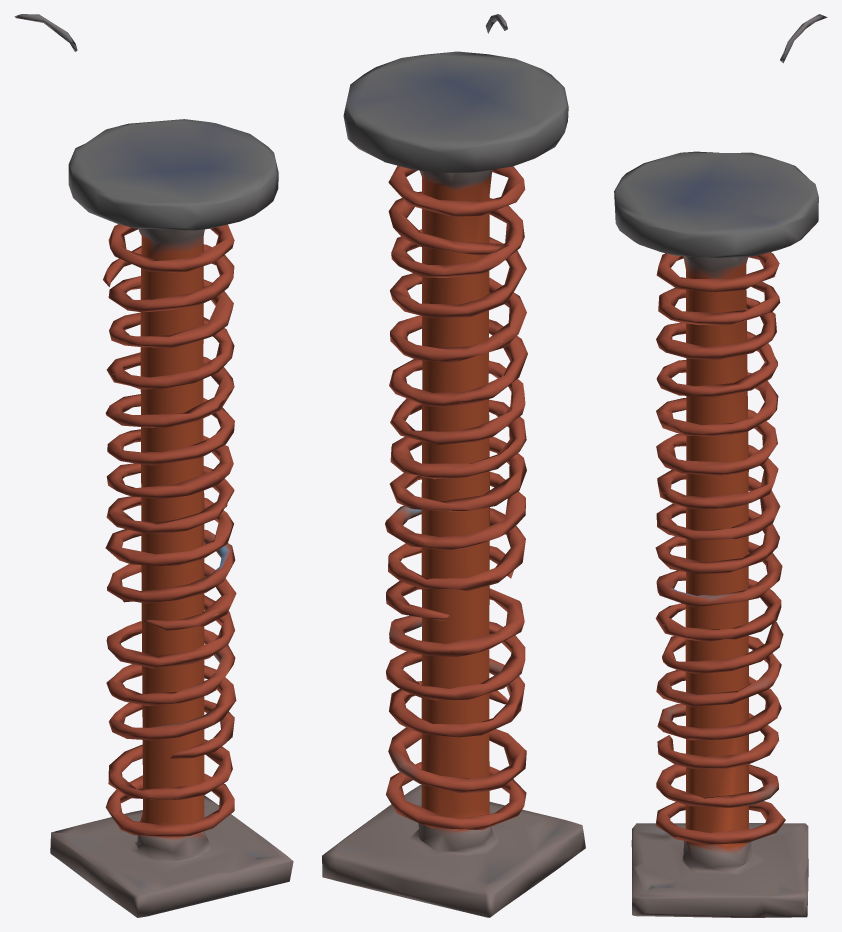
The model's file is gen3d-tesla-coil-lod0.glb.
3 views of the same model, side by side, from view 1: azimuth 30°, elevation 25°; view 2: azimuth 150°, elevation 25°; view 3: azimuth 270°, elevation 25° (orthographic). The views are drawn at different scales.
Visible parts, largest first — view 1: part_0; view 2: part_0; view 3: part_0.
Boxes of the visible parts, left/top/right/bottom form: part_0: left=14, top=14, right=293, bottom=917; part_0: left=322, top=14, right=585, bottom=917; part_0: left=614, top=14, right=827, bottom=917.
Size of the model in its own units: 0.2402 by 0.9989 by 0.2359.
